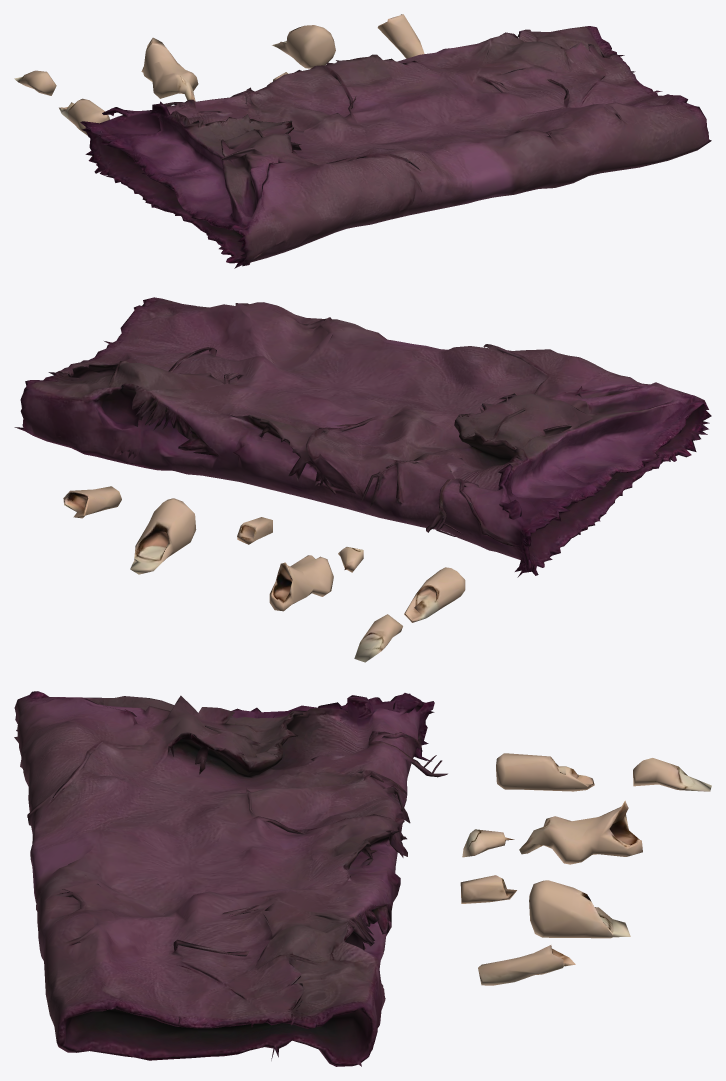
Rendered from wet-sleeve-nails.glb.
3 views of the same model, one above another, from view 1: azimuth 30°, elevation 25°; view 2: azimuth 150°, elevation 25°; view 3: azimuth 270°, elevation 25° (orthographic). The views are drawn at different scales.
Visible parts, largest first — view 1: tripo_node_373aa898-92e5-44e3-a448-b72b132e1739; view 2: tripo_node_373aa898-92e5-44e3-a448-b72b132e1739; view 3: tripo_node_373aa898-92e5-44e3-a448-b72b132e1739.
Part boxes in pixels (box(x1,y1,x2,y2)): tripo_node_373aa898-92e5-44e3-a448-b72b132e1739: box(14, 14, 711, 268); tripo_node_373aa898-92e5-44e3-a448-b72b132e1739: box(14, 297, 711, 662); tripo_node_373aa898-92e5-44e3-a448-b72b132e1739: box(14, 691, 711, 1066).
Size of the model in its own units: 1 by 0.158 by 0.9397.
Materials: 1 (1 with a texture image).
